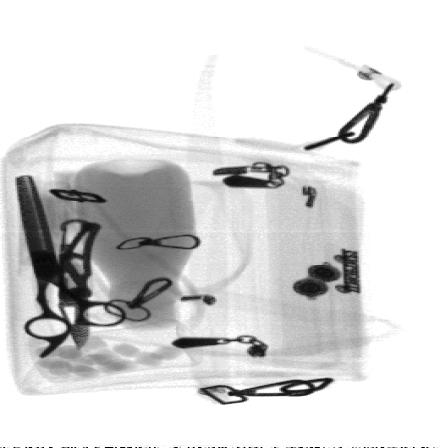Knife: (56, 219, 105, 352)
Scissors: (15, 174, 129, 361)
